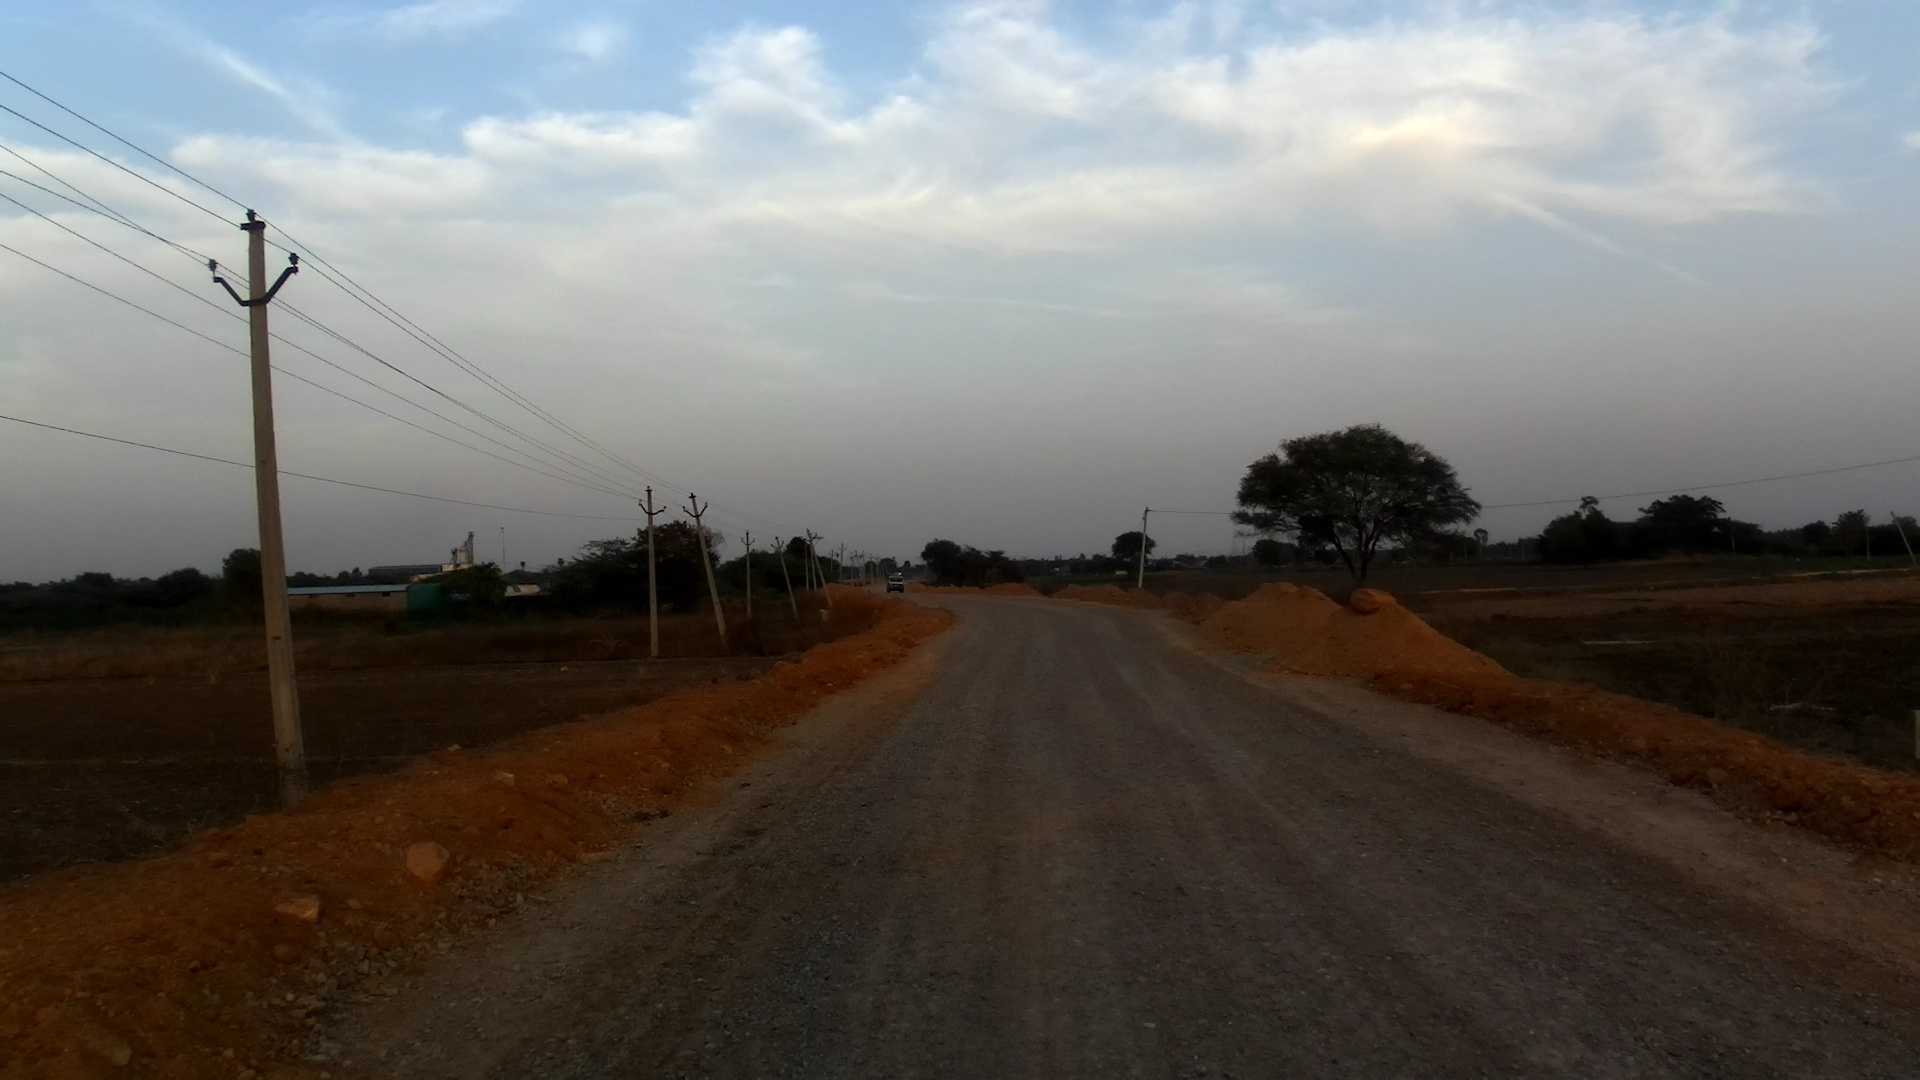car: (884, 570, 902, 592)
